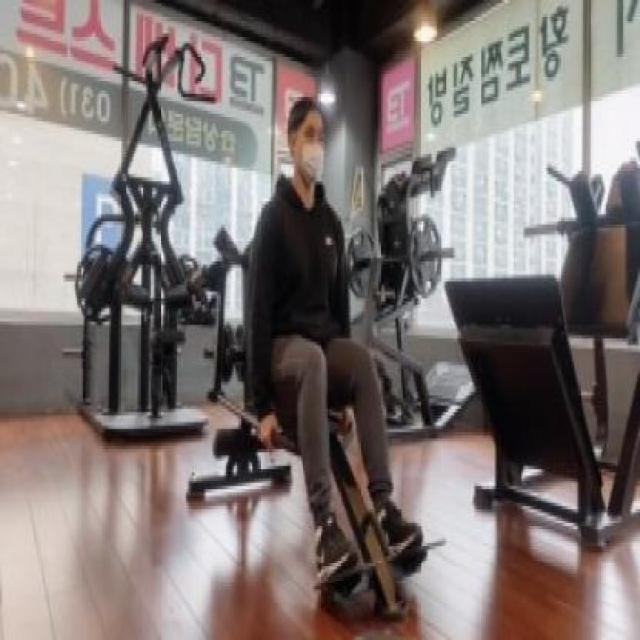lateral raises machine: (208, 271, 404, 640)
